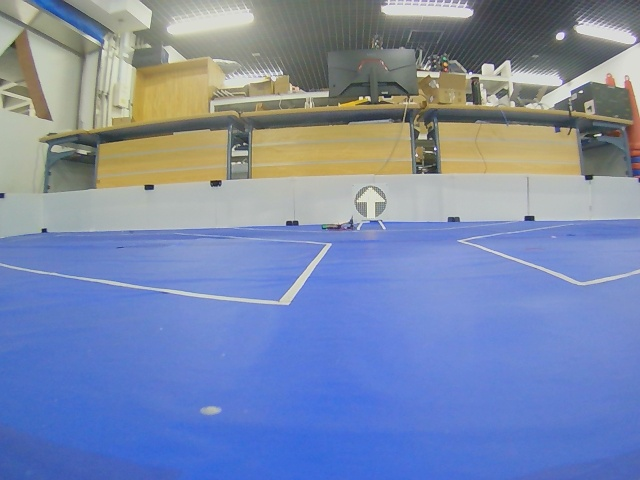straight_yellow: (355, 186, 387, 220)
